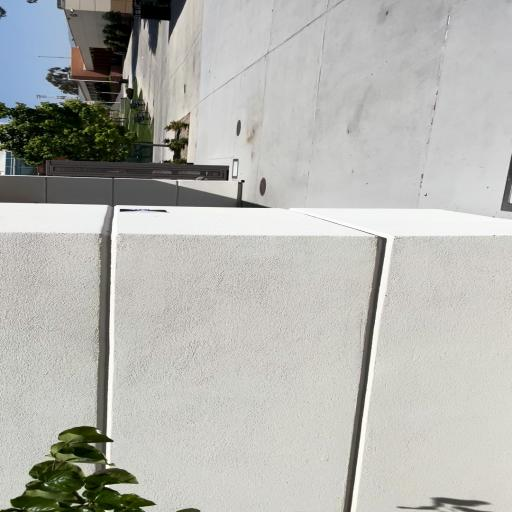target6: (119, 208, 169, 213)
